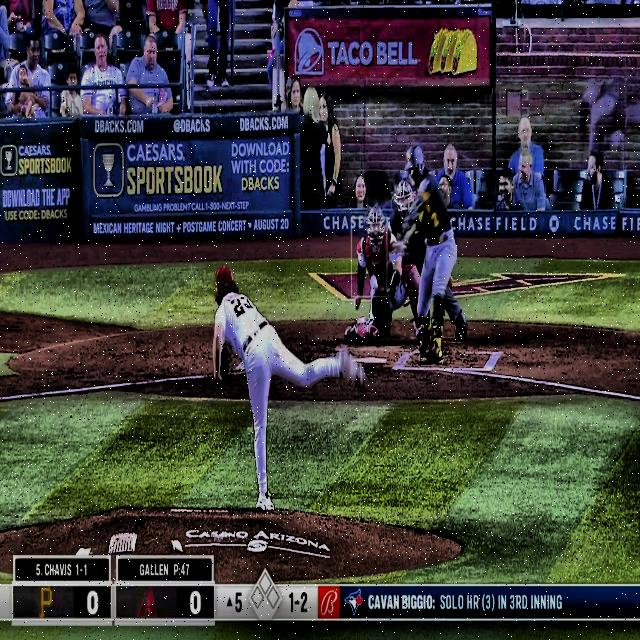baseball: (370, 274, 378, 290)
